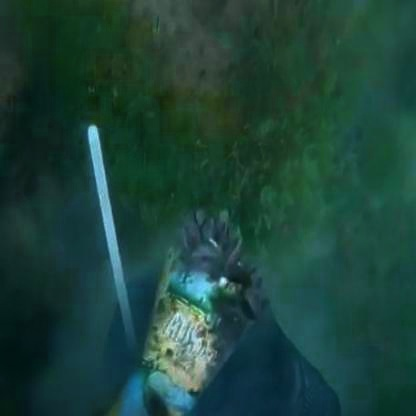plastic: (137, 177, 270, 380)
